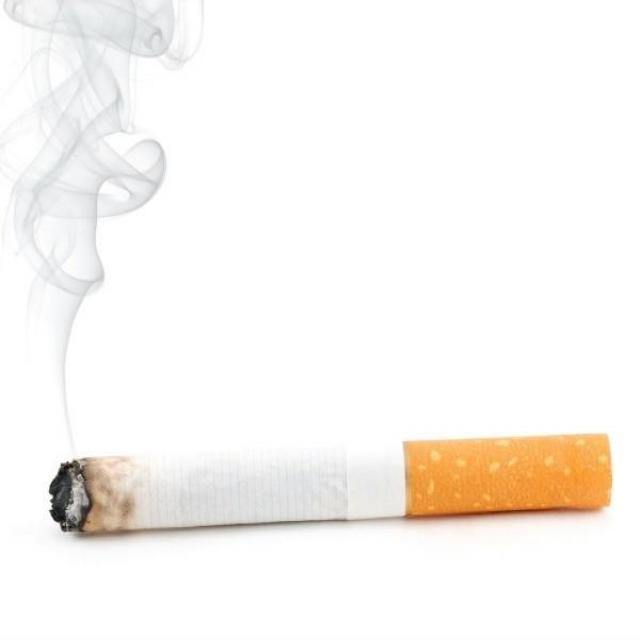cigarette: (42, 422, 618, 545)
